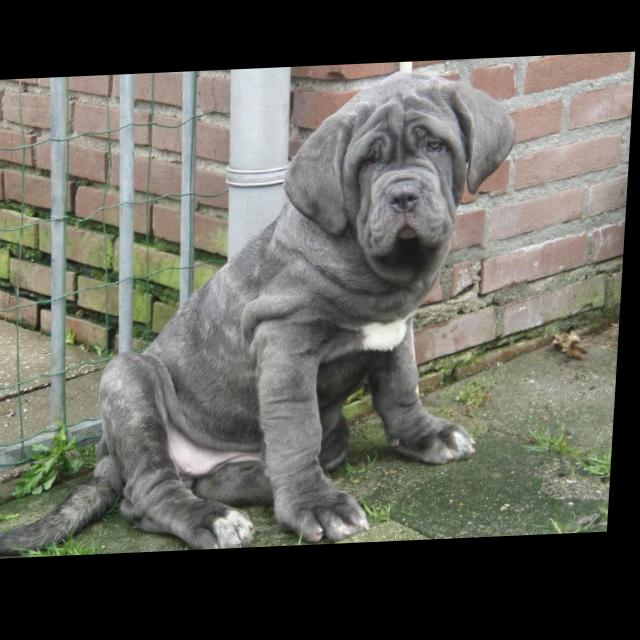mastino_napoletano: (1, 71, 522, 561)
